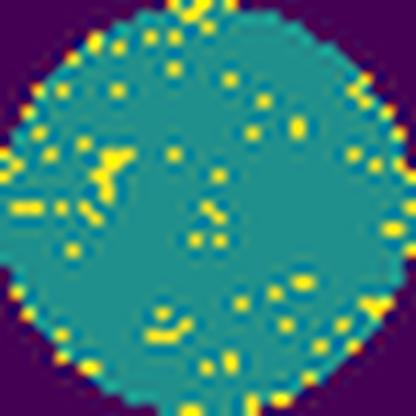Loc: (90, 145, 134, 205)
